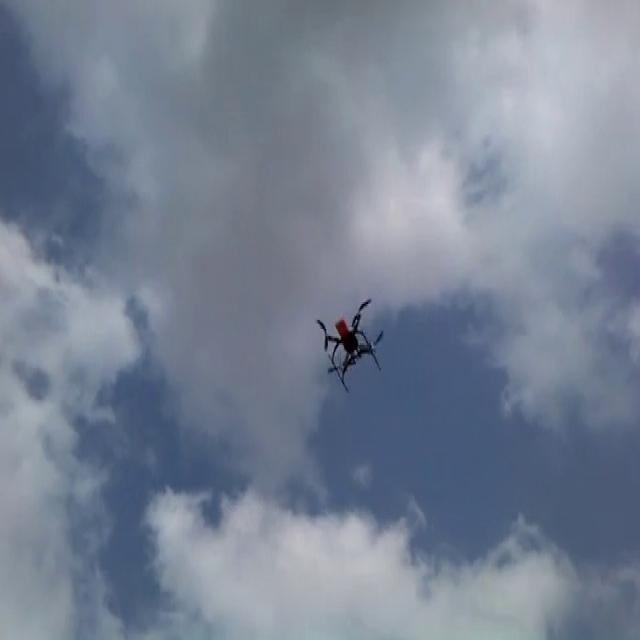drone: (314, 293, 383, 393)
